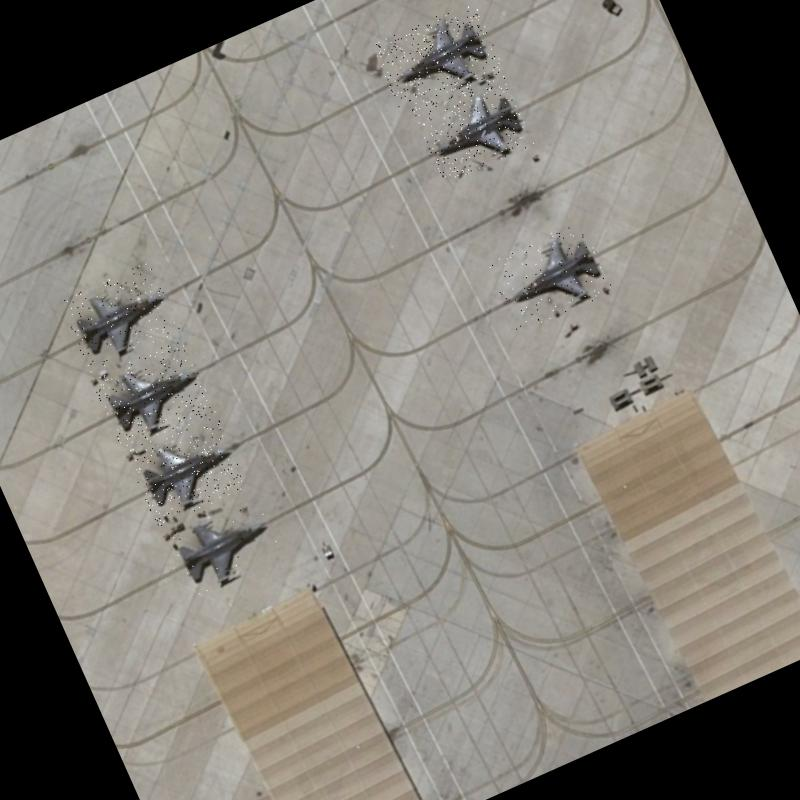A5: (158, 488, 292, 607), (371, 0, 505, 117), (486, 218, 614, 334), (90, 338, 216, 454), (126, 415, 249, 528), (58, 261, 182, 373), (414, 73, 535, 184)
